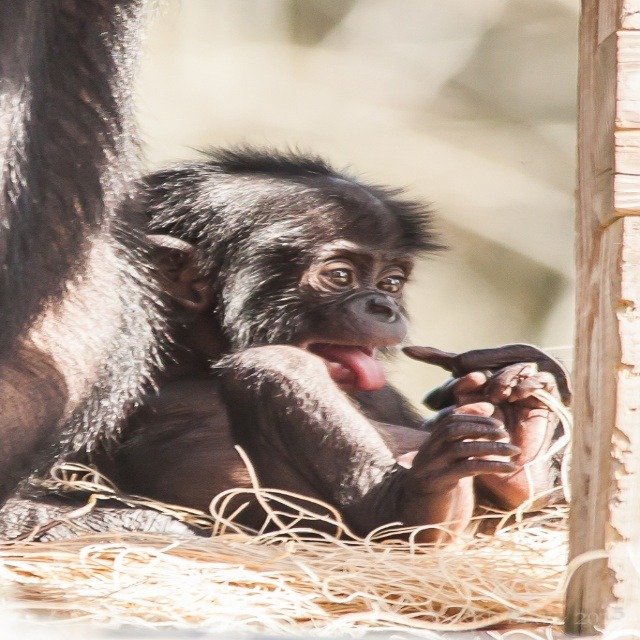Monkey: (72, 134, 537, 578)
